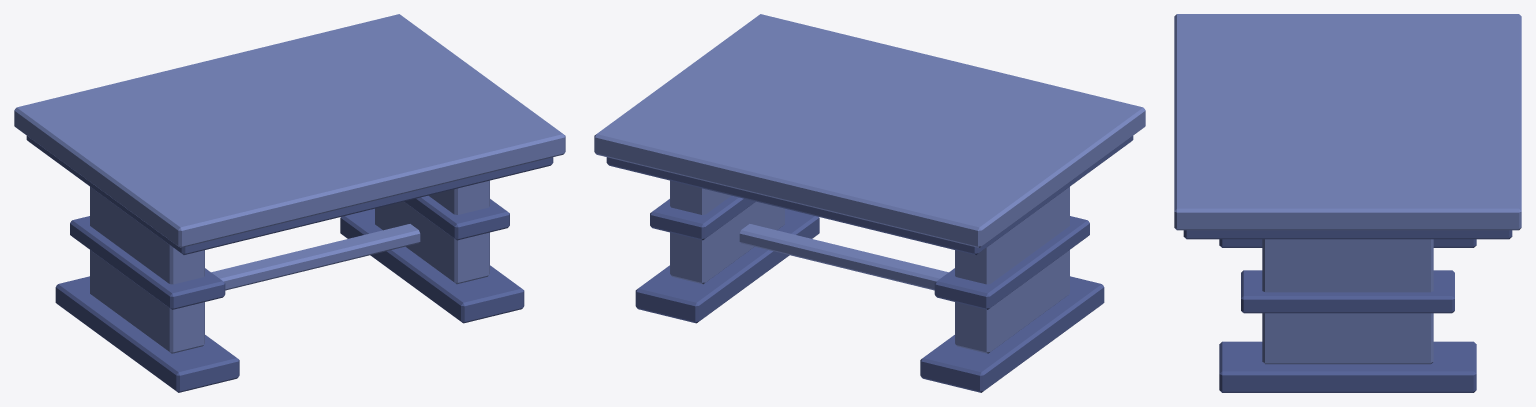
Rendered from blue_dungeon_table_v0.glb.
3 renders of one model, left to right at view 1: azimuth 30°, elevation 25°; view 2: azimuth 150°, elevation 25°; view 3: azimuth 270°, elevation 25°, orthographic. The views are drawn at different scales.
Parts seen in each view (by area): view 1: blue_dungeon_table_v0; view 2: blue_dungeon_table_v0; view 3: blue_dungeon_table_v0.
Part boxes in pixels (box(x1,y1,x2,y2)): blue_dungeon_table_v0: box(14, 14, 565, 392); blue_dungeon_table_v0: box(594, 14, 1145, 392); blue_dungeon_table_v0: box(1174, 14, 1521, 392).
Size of the model in its own units: 1.96 by 0.9 by 1.46.
